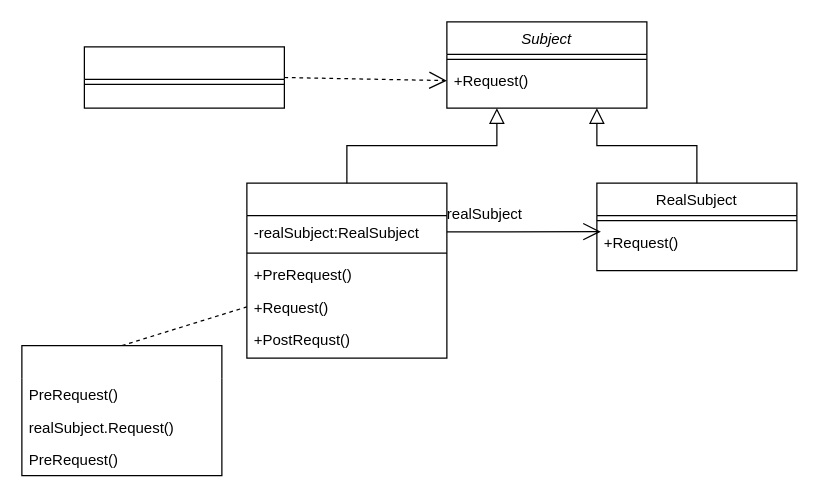
Some shapes in this 819 by 501 pixel diagram are drawn without their labels. Here are the shapes that lost their labels. From the top down, the box of each, then its label:
(83, 46, 284, 108): Client
(246, 182, 447, 358): Proxy
